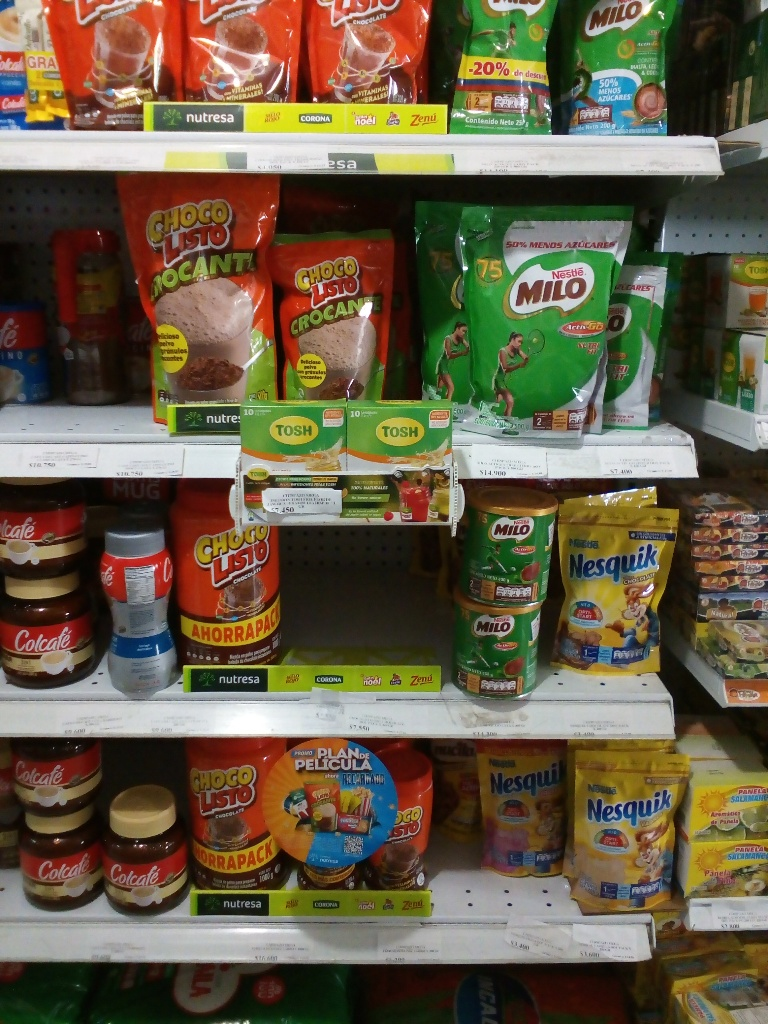COL0170102DYP25000: (283, 231, 390, 402)
COL0170102DYP50000: (125, 181, 275, 403)
COL0170103TRR00100: (182, 739, 288, 889)
COL0170103TRR30000: (368, 746, 429, 891)
COL0170203DYP25000: (451, 1, 553, 134)
COL0170203LAT40000: (453, 484, 556, 602)
COL0170205DYP20000: (554, 0, 664, 128)
COL0170205DYP50000: (455, 204, 635, 445)
COL0170306DYP20000: (572, 746, 676, 909)
